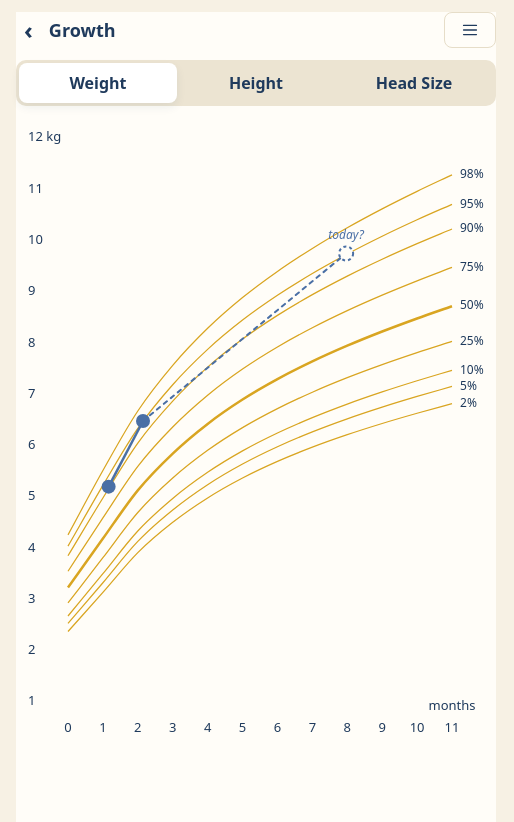
GrowthDetailPage › switches metric tabs
Step 1. Click the button "Height" → (256, 83), box [177,63,335,103]
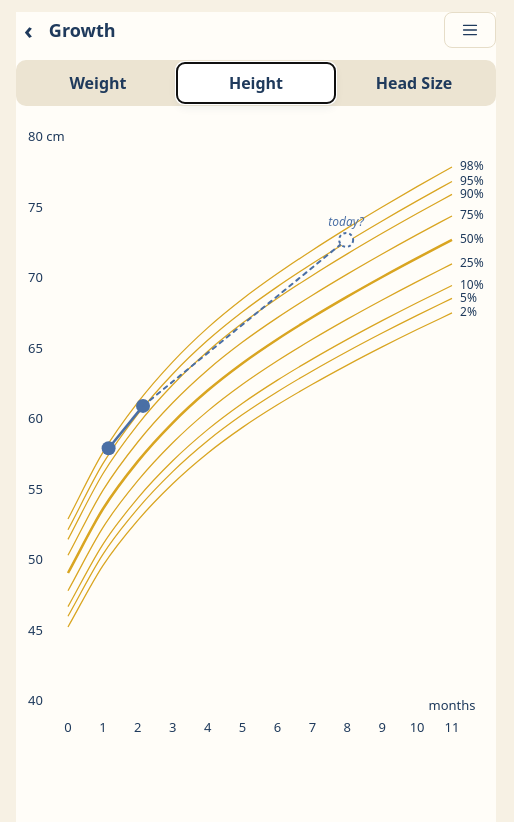
Step 2. Click the button named "Show list" → (470, 30), box [444,12,496,48]
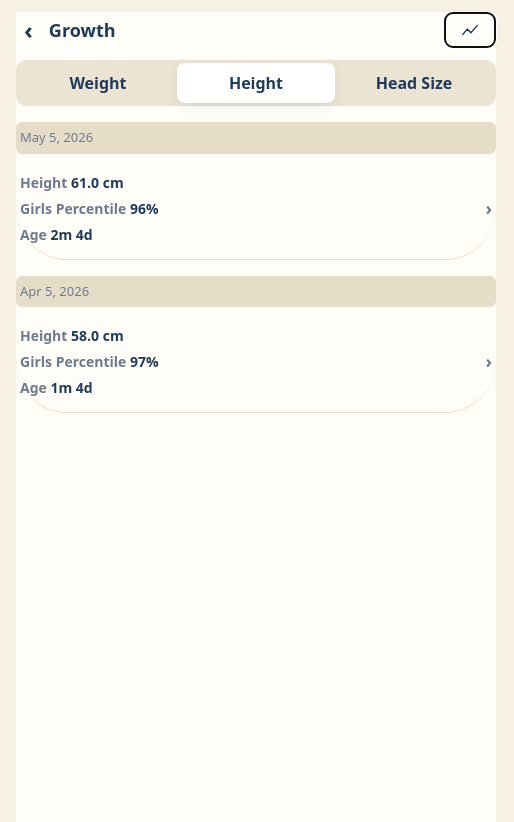
Now the text "61.0 cm" is shown, box [71,172,124,192]
